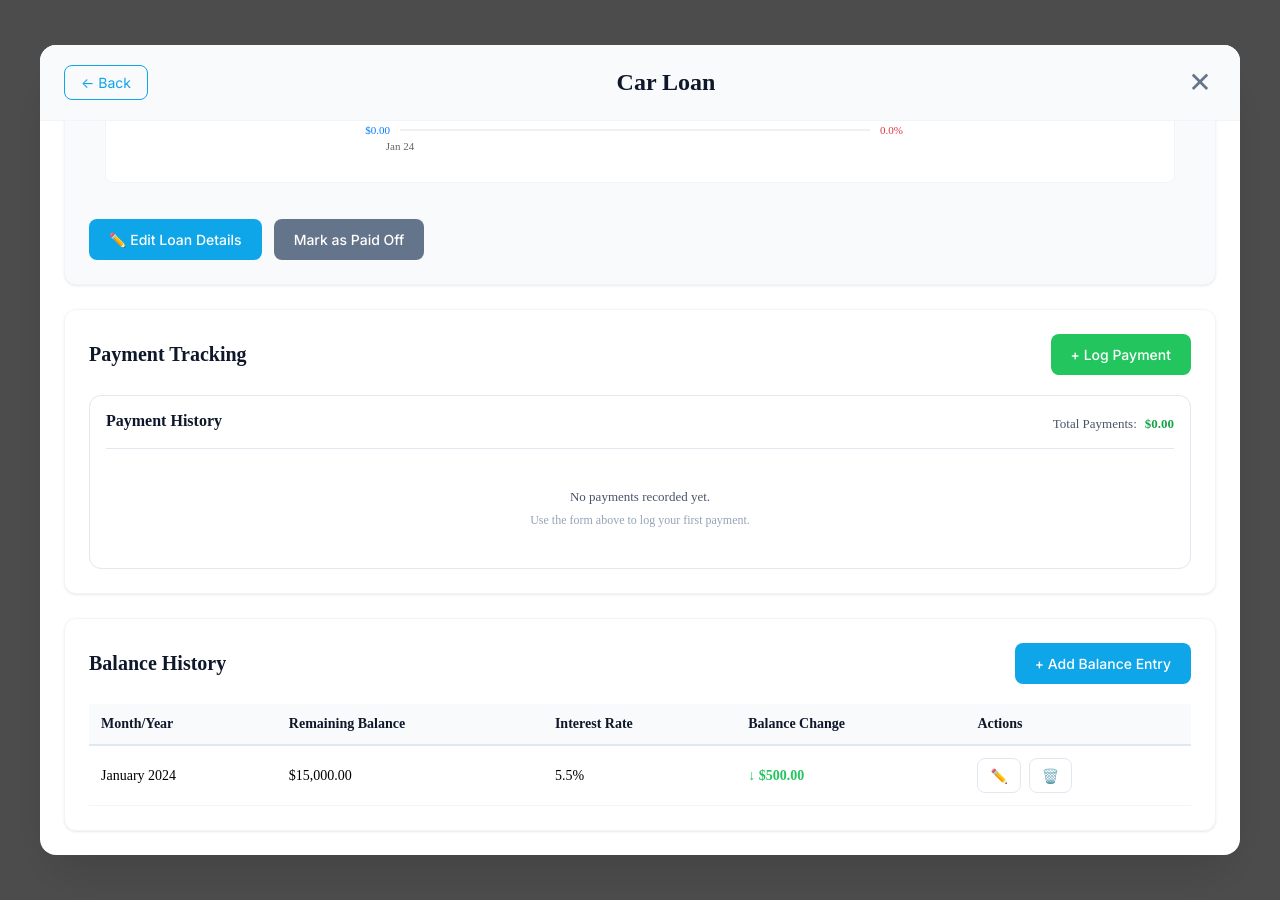
it: LoanDetailView Balance Entry Form - Fixed Interest Rate › Edge Cases › handles loan with fixed_interest_rate of 0
(page scrolled)
Expected: the heading "Balance History" is shown, [89, 652, 226, 675]
# Click Add Balance Entry button
Click the button "+ Add Balance Entry": (1103, 664) [1015, 643, 1191, 684]
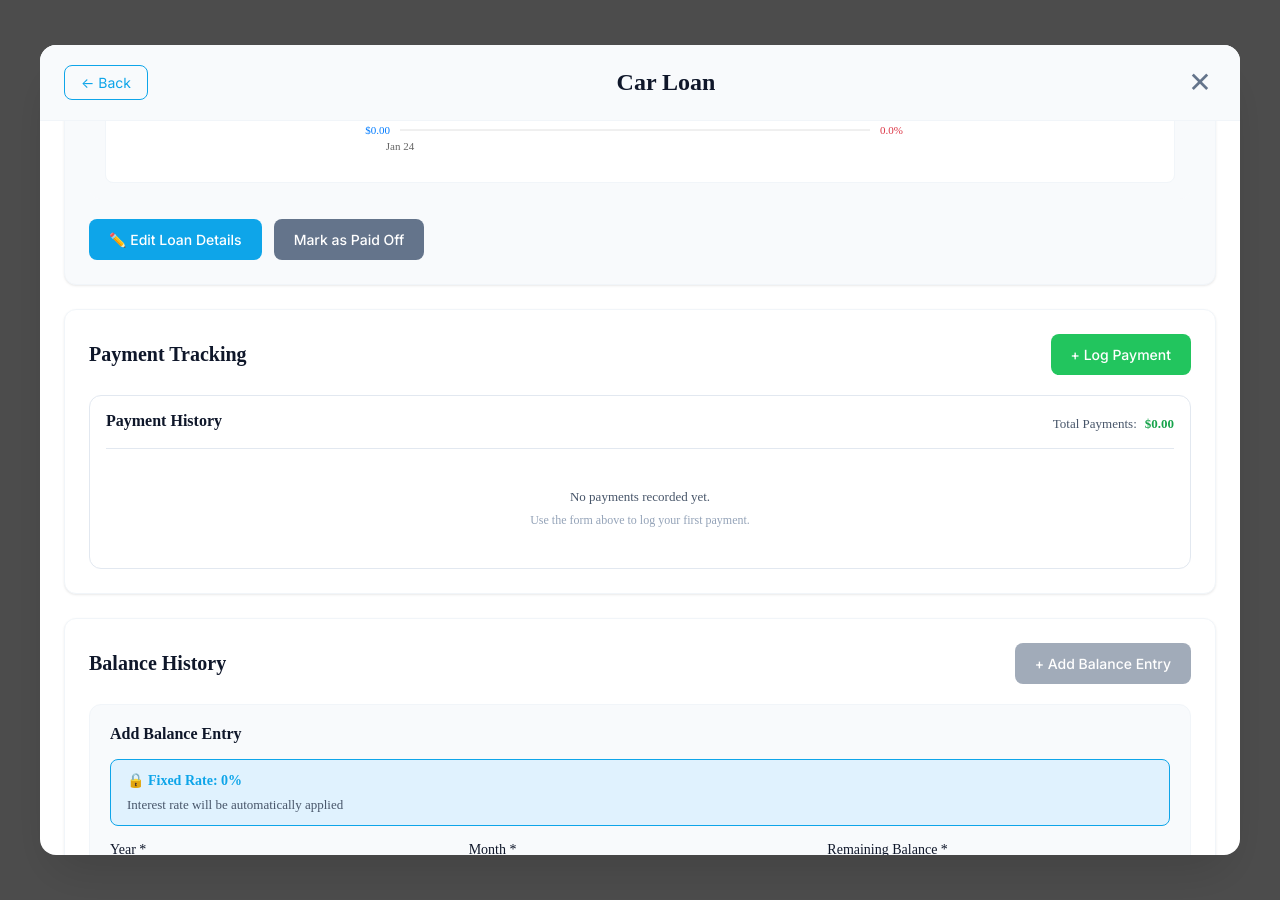
Expected: the text "🔒 Fixed Rate: 0%" is shown, [127, 773, 242, 788]
